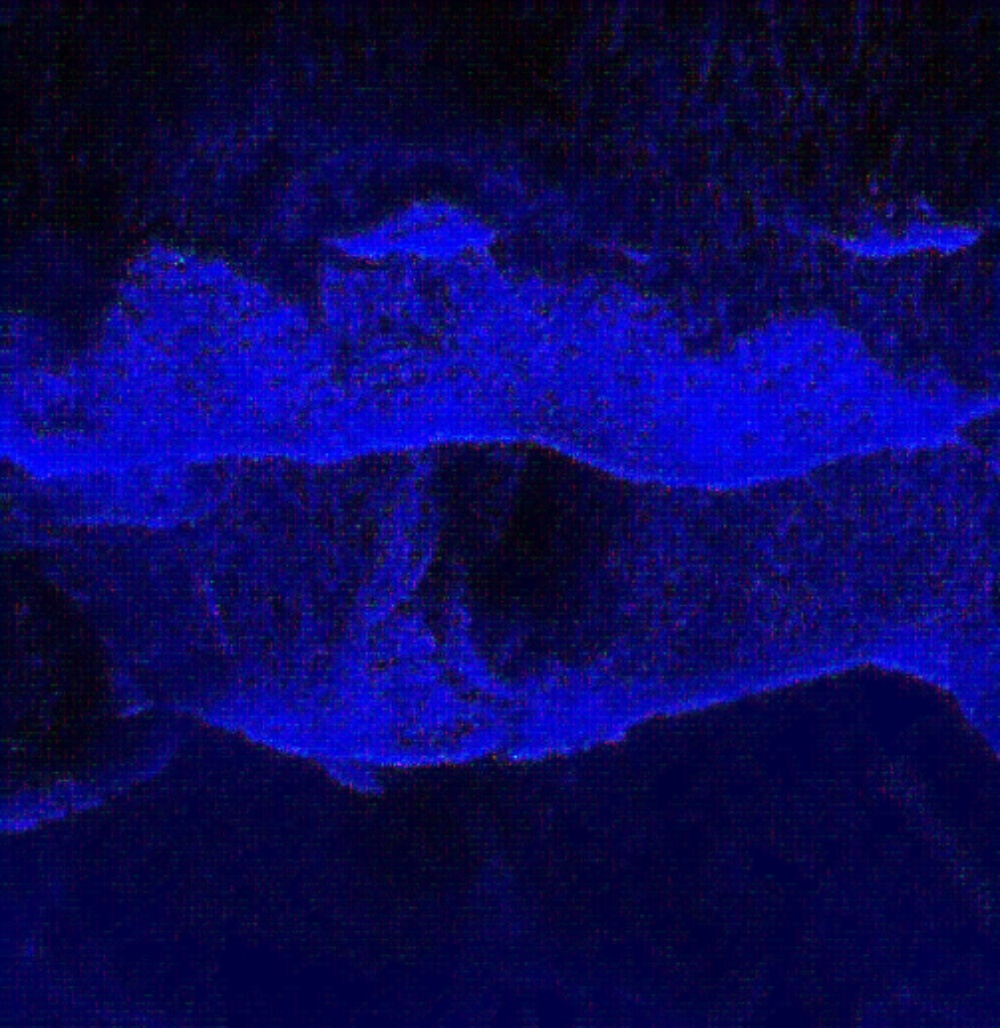rip_current: (443, 100, 723, 690)
